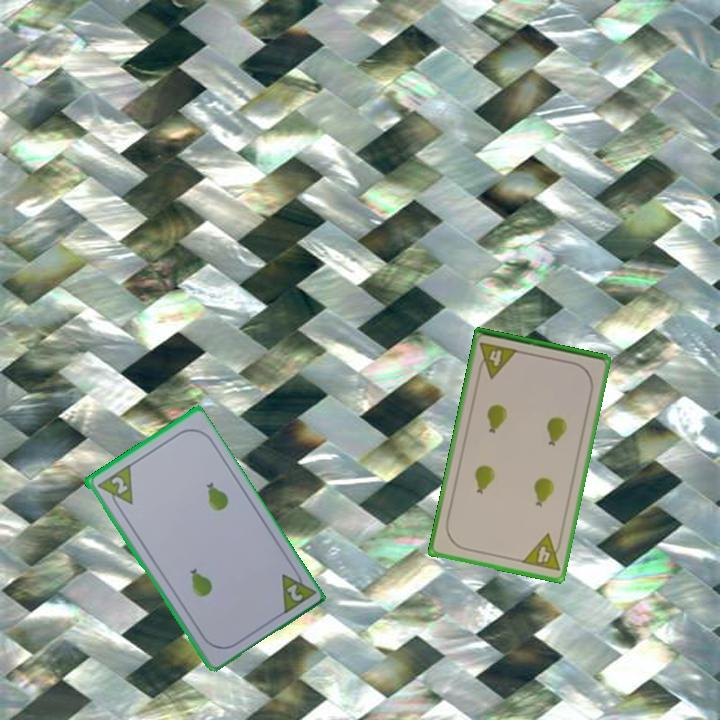2p: (107, 472, 130, 497), (282, 580, 305, 604)
4p: (518, 530, 565, 574), (474, 339, 521, 381)
